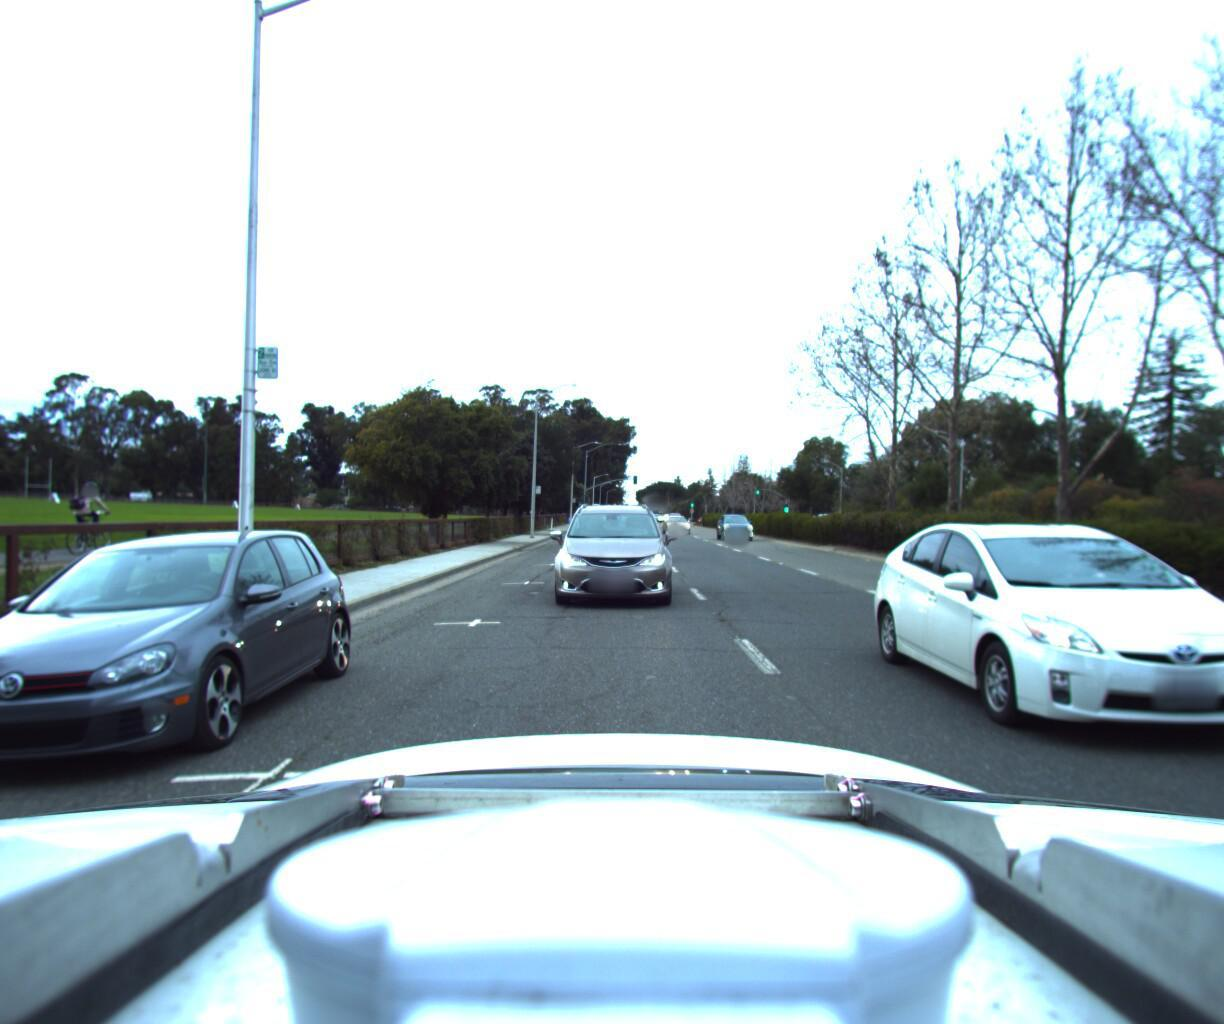bicycle: (50, 473, 125, 552)
car: (0, 516, 377, 810), (902, 510, 1224, 851), (548, 492, 674, 606), (719, 507, 761, 537), (662, 509, 692, 529)
